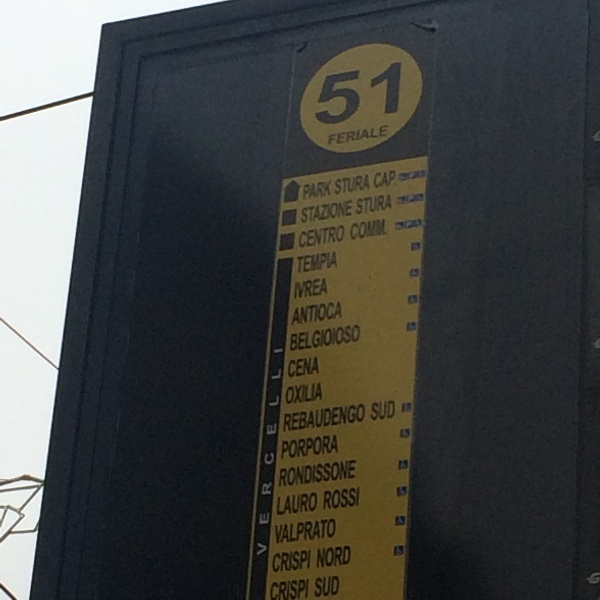text: (273, 340, 287, 560), (385, 59, 400, 126), (337, 66, 352, 128), (269, 340, 272, 560), (326, 66, 336, 128), (375, 59, 384, 126), (353, 66, 362, 128), (289, 402, 304, 434), (305, 402, 320, 434), (321, 402, 336, 434), (337, 402, 352, 434), (289, 458, 304, 489), (305, 458, 320, 489), (321, 458, 336, 489), (337, 458, 352, 489), (305, 299, 320, 329), (321, 299, 336, 329), (337, 544, 353, 572), (289, 433, 304, 462), (305, 433, 320, 462), (321, 433, 336, 462), (289, 518, 304, 547), (305, 518, 320, 547), (321, 518, 336, 547), (337, 199, 353, 226), (305, 223, 320, 251), (321, 223, 336, 251), (321, 323, 336, 351), (337, 323, 352, 351), (321, 544, 336, 572), (353, 402, 366, 434), (305, 199, 320, 226), (321, 199, 336, 226), (305, 249, 320, 276), (321, 249, 336, 276), (289, 381, 304, 408), (305, 381, 320, 408), (337, 487, 352, 514), (273, 549, 288, 576), (289, 549, 304, 576), (401, 59, 407, 126), (353, 217, 368, 243), (369, 217, 384, 243), (289, 492, 304, 518), (305, 355, 321, 379), (275, 518, 288, 547), (337, 173, 352, 198), (353, 173, 368, 198), (305, 276, 320, 301), (321, 575, 336, 600), (337, 125, 352, 150), (353, 125, 368, 150), (369, 125, 384, 150), (305, 178, 320, 202), (369, 193, 384, 217), (292, 299, 304, 329), (289, 355, 304, 379), (323, 487, 336, 514), (273, 577, 288, 600), (289, 577, 304, 600), (385, 168, 398, 194), (305, 492, 318, 518), (290, 330, 304, 354), (371, 399, 384, 424), (276, 492, 288, 518), (278, 458, 288, 489), (385, 399, 397, 424), (356, 193, 368, 217), (373, 168, 384, 194), (321, 178, 332, 202), (337, 223, 346, 251), (353, 323, 362, 351), (326, 125, 336, 150), (321, 276, 330, 301), (312, 323, 320, 351), (296, 249, 304, 276), (353, 487, 361, 514), (305, 549, 313, 576), (337, 299, 344, 329), (281, 433, 288, 462), (296, 276, 304, 301), (385, 193, 393, 217), (305, 330, 313, 354), (282, 402, 288, 434), (353, 458, 359, 489), (313, 575, 320, 600), (298, 223, 304, 251), (385, 125, 390, 150), (305, 577, 310, 600), (321, 381, 325, 408), (385, 217, 389, 243), (337, 575, 341, 600), (337, 433, 340, 462), (317, 544, 320, 572), (301, 199, 304, 226), (337, 249, 340, 276), (369, 173, 372, 198), (286, 381, 288, 408), (350, 217, 352, 243), (302, 178, 304, 202), (270, 577, 272, 600), (337, 518, 338, 547), (335, 173, 336, 198)
